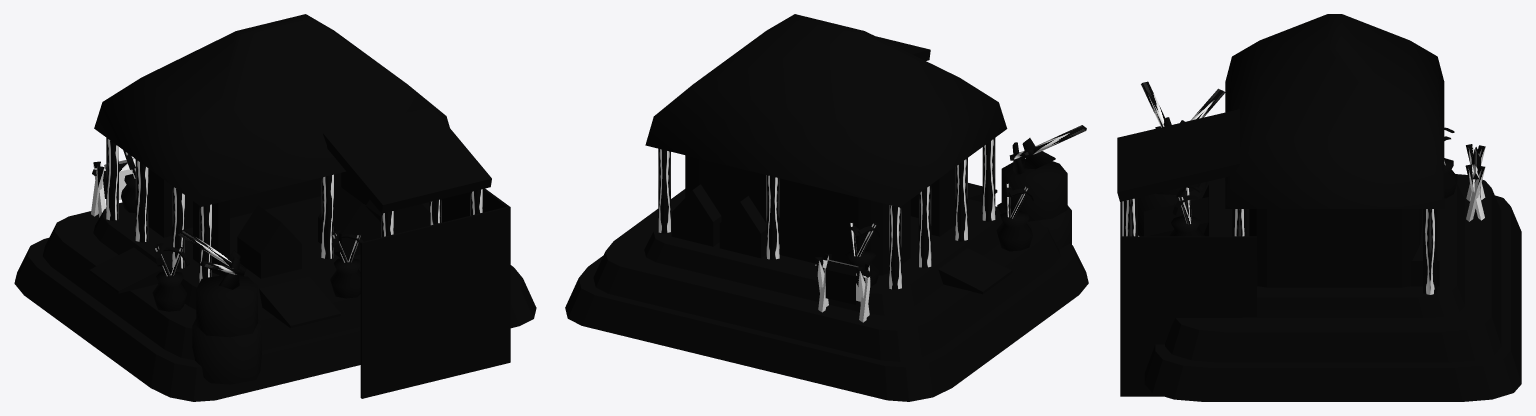
The model's file is storehouse.dae.
3 renders of one model, left to right at view 1: azimuth 30°, elevation 25°; view 2: azimuth 150°, elevation 25°; view 3: azimuth 270°, elevation 25°, orthographic. The views are drawn at different scales.
Parts seen in each view (by area): view 1: storehouse; view 2: storehouse; view 3: storehouse.
Part boxes in pixels (x1,y1,x2,y2): storehouse: (14, 14, 536, 401); storehouse: (565, 14, 1088, 401); storehouse: (1117, 14, 1521, 401).
Bounding box in the file's own units: 15.26 × 13.88 × 11.35.
